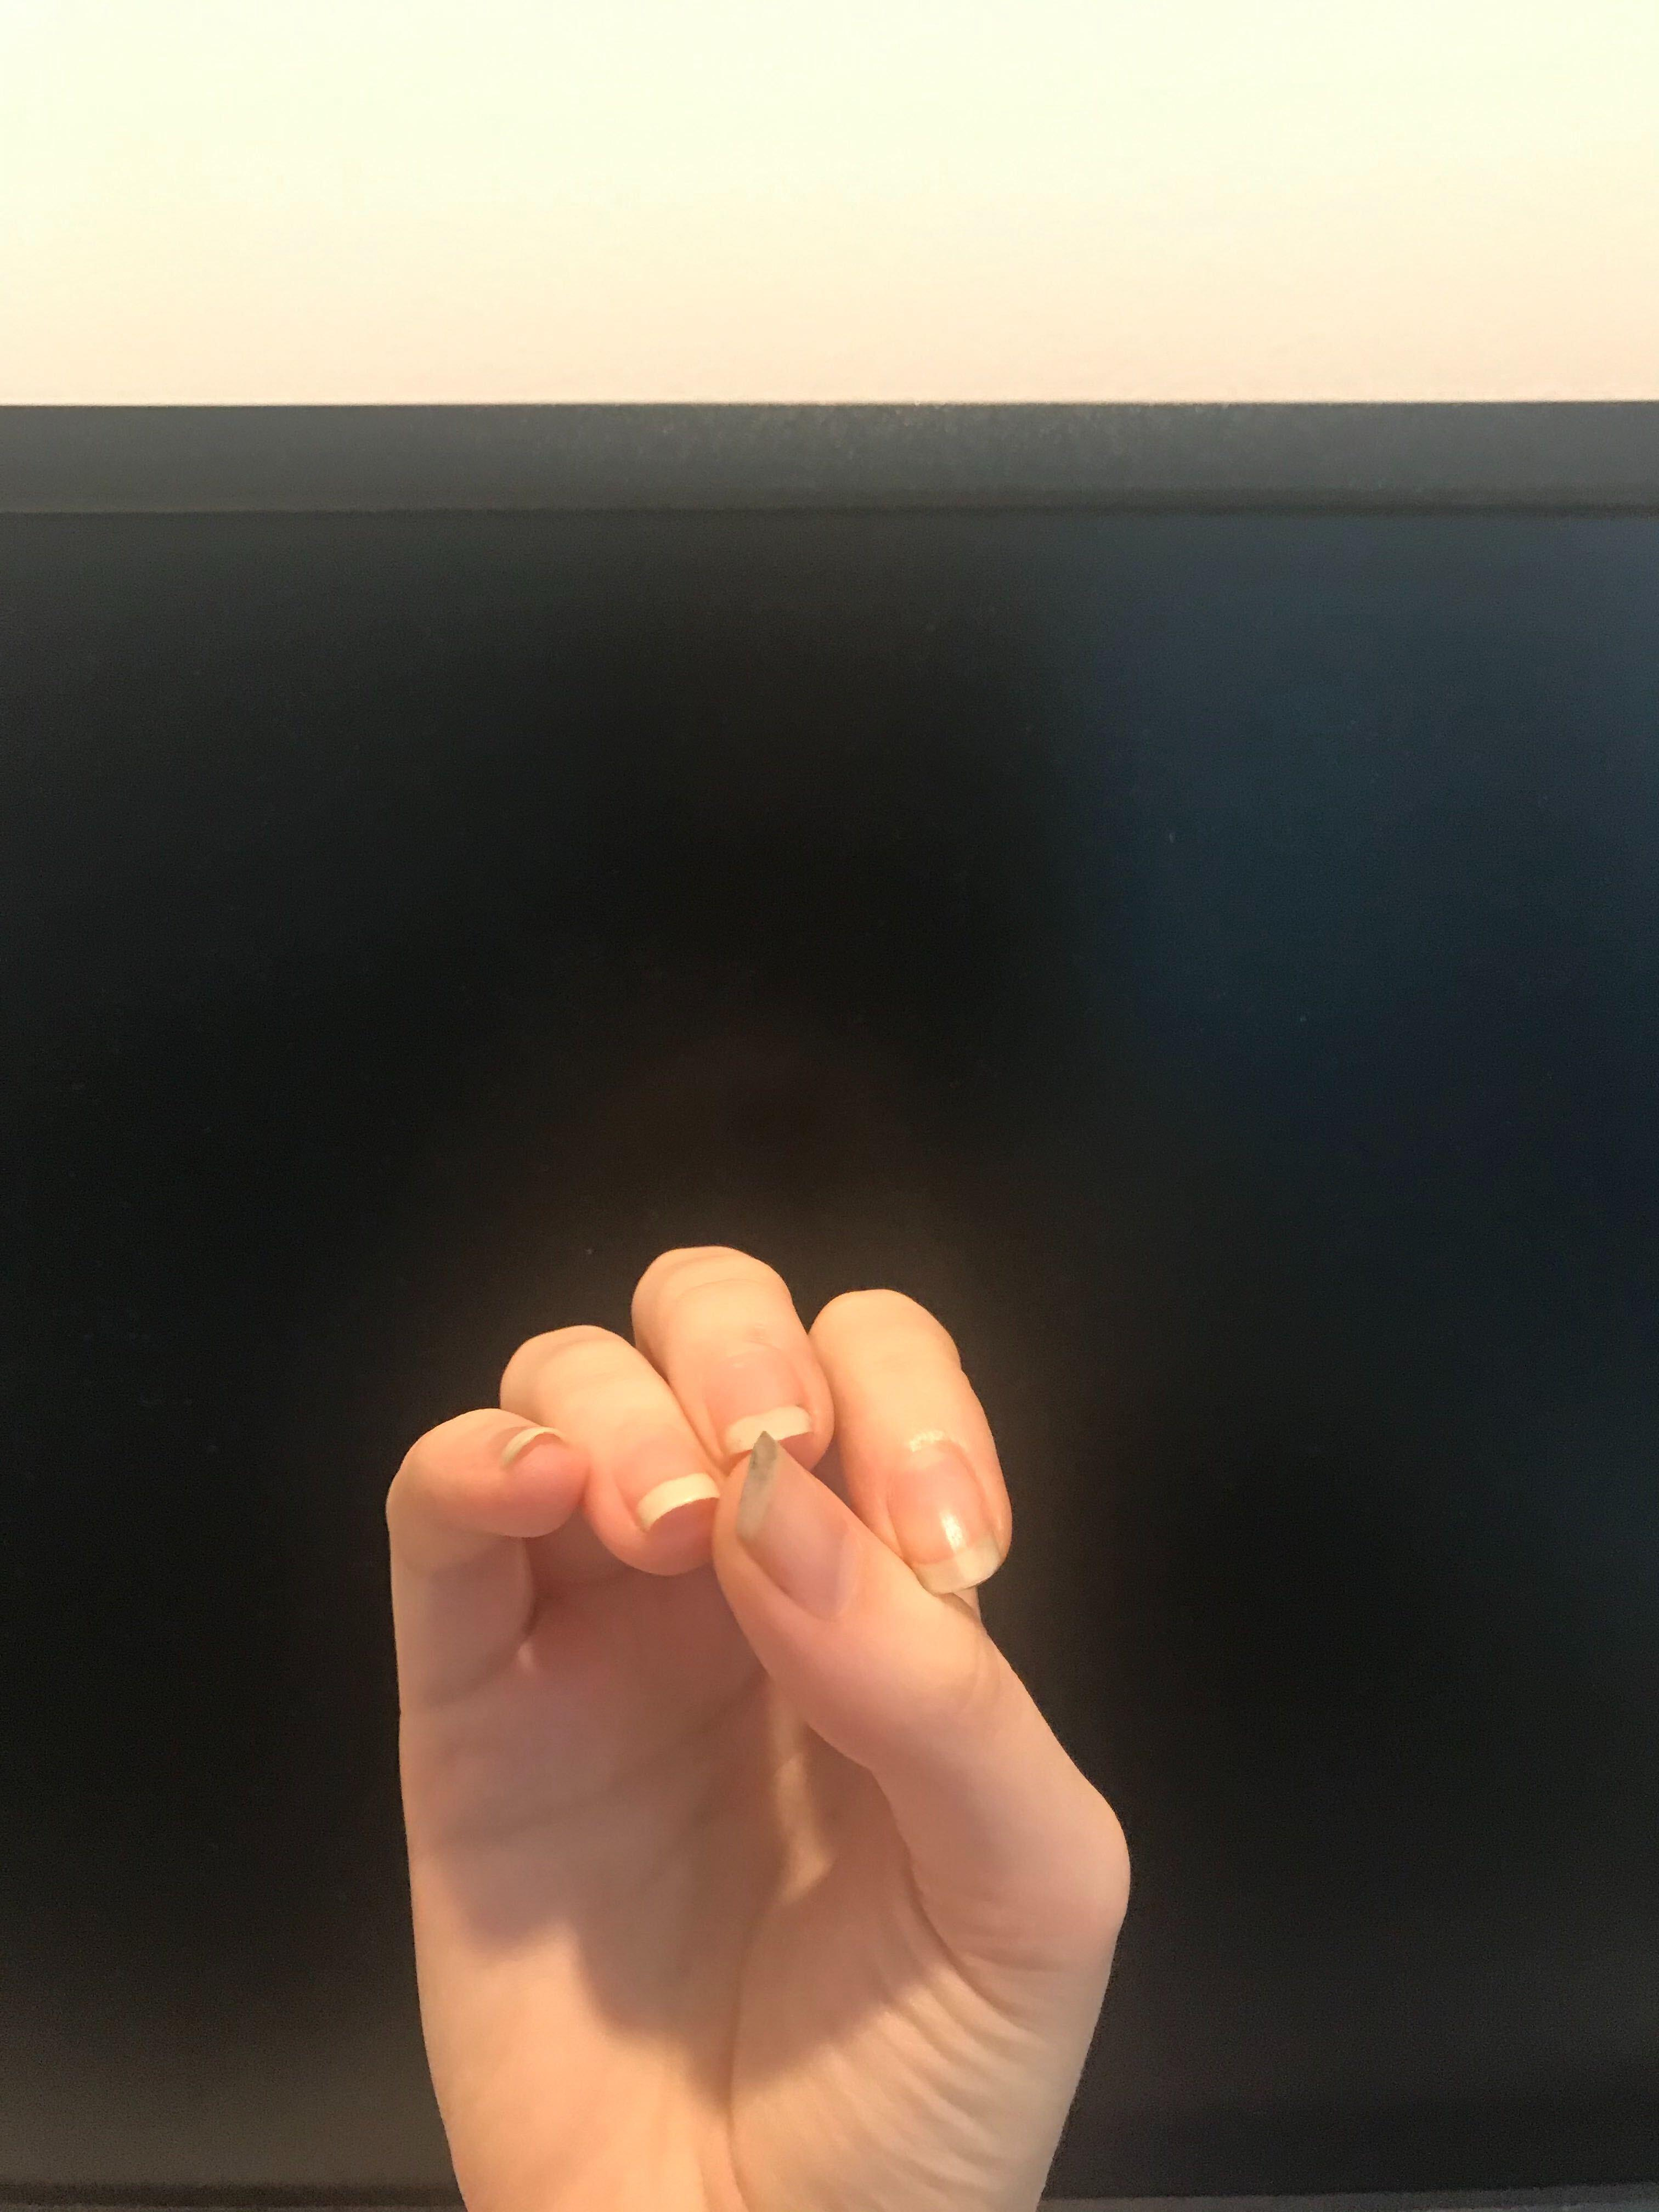O: (359, 1226, 1145, 2212)
